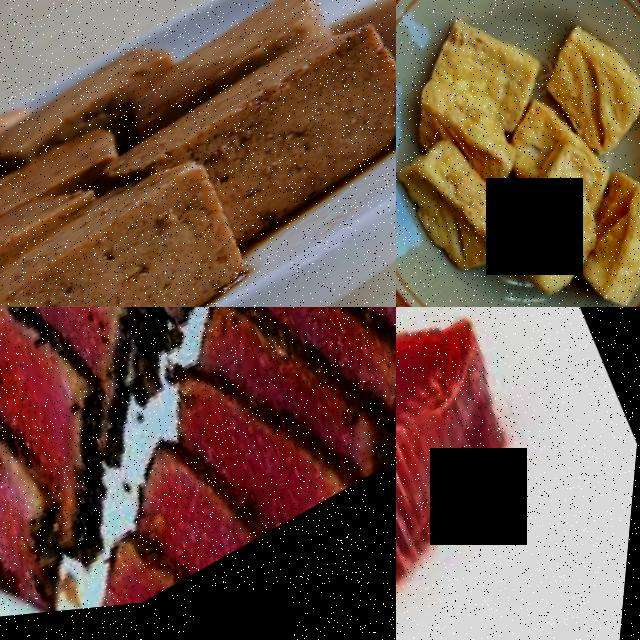tofu: (179, 7, 396, 256), (0, 152, 270, 307), (411, 0, 559, 161), (483, 146, 626, 307), (396, 125, 532, 292), (531, 10, 640, 173), (542, 166, 640, 307)
tuna: (396, 307, 600, 640)
